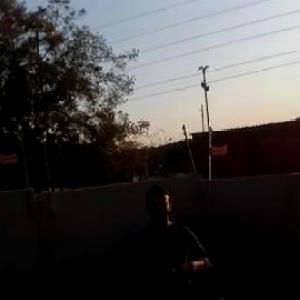follow: (123, 169, 219, 299)
